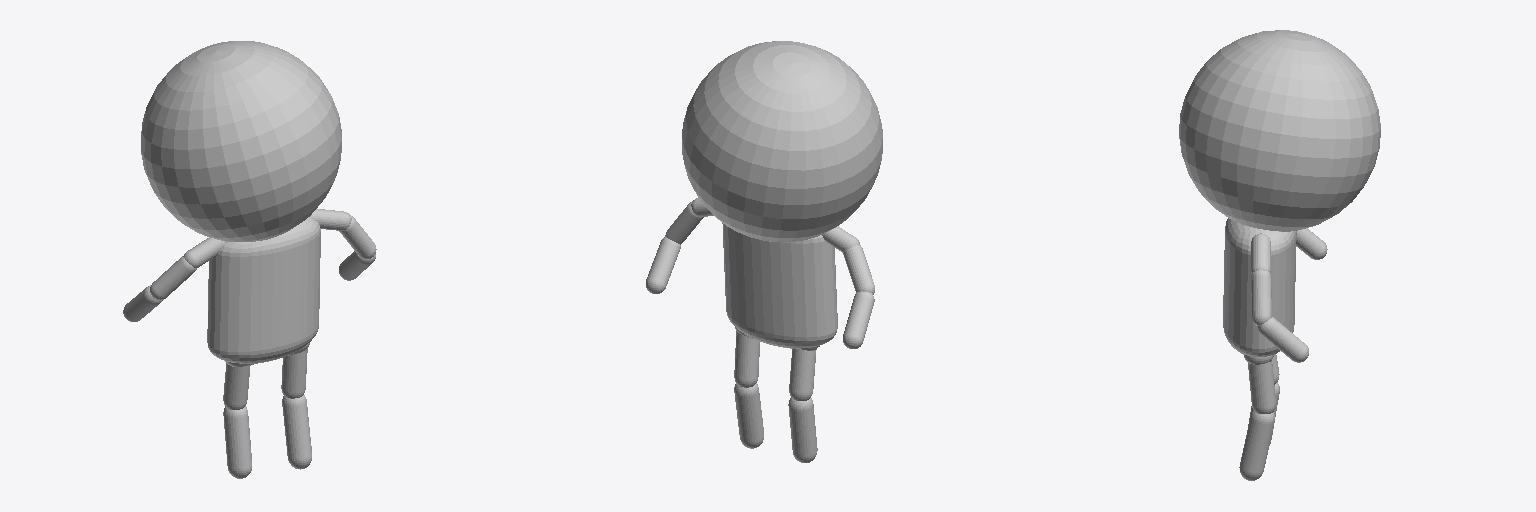
Rendered from Stickman_000079.obj.
The picture shows the model from 3 angles: view 1: azimuth 30°, elevation 25°; view 2: azimuth 150°, elevation 25°; view 3: azimuth 270°, elevation 25°; orthographic projection.
Parts seen in each view (by area): view 1: Head_Sphere.001, Body_Roundcube.002, LowerLegLeft_Roundcube.013, LowerLegRight_Roundcube.011, UpperLegLeft_Roundcube.012, UpperLegRight_Roundcube.010, UpperArmRight_Roundcube.015, UpperArmLeft_Roundcube.018, LowerArmRight_Roundcube.016, ShoulderRight_Roundcube.014, ShoulderLeft_Roundcube.017, LowerArmLeft_Roundcube.019; view 2: Head_Sphere.001, Body_Roundcube.002, LowerLegRight_Roundcube.011, LowerLegLeft_Roundcube.013, UpperLegRight_Roundcube.010, UpperLegLeft_Roundcube.012, LowerArmRight_Roundcube.016, LowerArmLeft_Roundcube.019, UpperArmRight_Roundcube.015, UpperArmLeft_Roundcube.018, ShoulderRight_Roundcube.014; view 3: Head_Sphere.001, Body_Roundcube.002, LowerLegLeft_Roundcube.013, UpperLegLeft_Roundcube.012, LowerArmLeft_Roundcube.019, UpperArmLeft_Roundcube.018, ShoulderLeft_Roundcube.017, LowerArmRight_Roundcube.016.
Part boxes in pixels (x1,y1,x2,y2): Head_Sphere.001: (141, 41, 341, 241); Body_Roundcube.002: (207, 217, 320, 363); LowerLegLeft_Roundcube.013: (282, 395, 311, 469); LowerLegRight_Roundcube.011: (223, 406, 251, 478); UpperLegLeft_Roundcube.012: (281, 348, 307, 398); UpperLegRight_Roundcube.010: (223, 363, 250, 409); UpperArmRight_Roundcube.015: (150, 256, 196, 299); UpperArmLeft_Roundcube.018: (339, 215, 376, 258); LowerArmRight_Roundcube.016: (123, 285, 162, 321); ShoulderRight_Roundcube.014: (183, 237, 224, 267); ShoulderLeft_Roundcube.017: (310, 209, 351, 230); LowerArmLeft_Roundcube.019: (339, 251, 375, 280); Head_Sphere.001: (682, 41, 882, 241); Body_Roundcube.002: (722, 223, 837, 348); LowerLegRight_Roundcube.011: (788, 397, 817, 462); LowerLegLeft_Roundcube.013: (734, 383, 763, 448); UpperLegRight_Roundcube.010: (789, 348, 816, 400); UpperLegLeft_Roundcube.012: (734, 331, 759, 387); LowerArmRight_Roundcube.016: (843, 291, 874, 348); LowerArmLeft_Roundcube.019: (646, 237, 680, 293); UpperArmRight_Roundcube.015: (843, 245, 874, 294); UpperArmLeft_Roundcube.018: (665, 201, 703, 244); ShoulderRight_Roundcube.014: (822, 226, 859, 252); Head_Sphere.001: (1179, 30, 1380, 231); Body_Roundcube.002: (1223, 218, 1296, 356); LowerLegLeft_Roundcube.013: (1239, 410, 1274, 480); UpperLegLeft_Roundcube.012: (1248, 361, 1275, 413); LowerArmLeft_Roundcube.019: (1257, 317, 1308, 362); UpperArmLeft_Roundcube.018: (1251, 270, 1271, 325); ShoulderLeft_Roundcube.017: (1251, 233, 1270, 272); LowerArmRight_Roundcube.016: (1296, 228, 1327, 259).
Bounding box in the file's own units: 7.43 × 13.18 × 5.77.